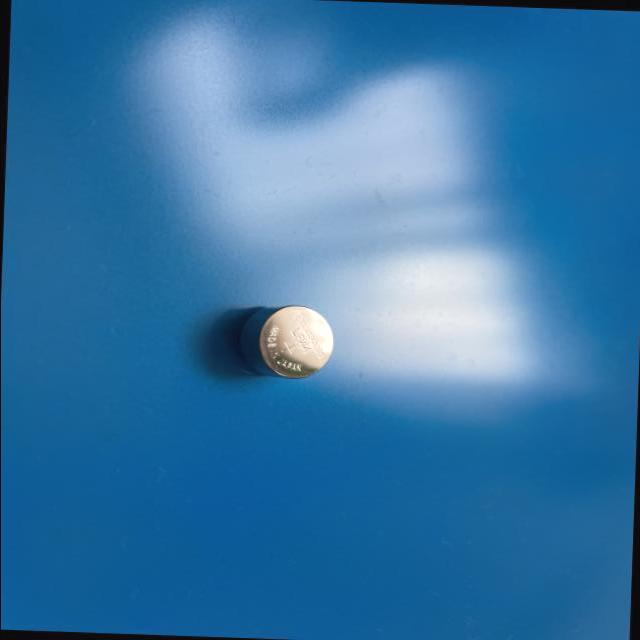COIN: (238, 300, 340, 381)
